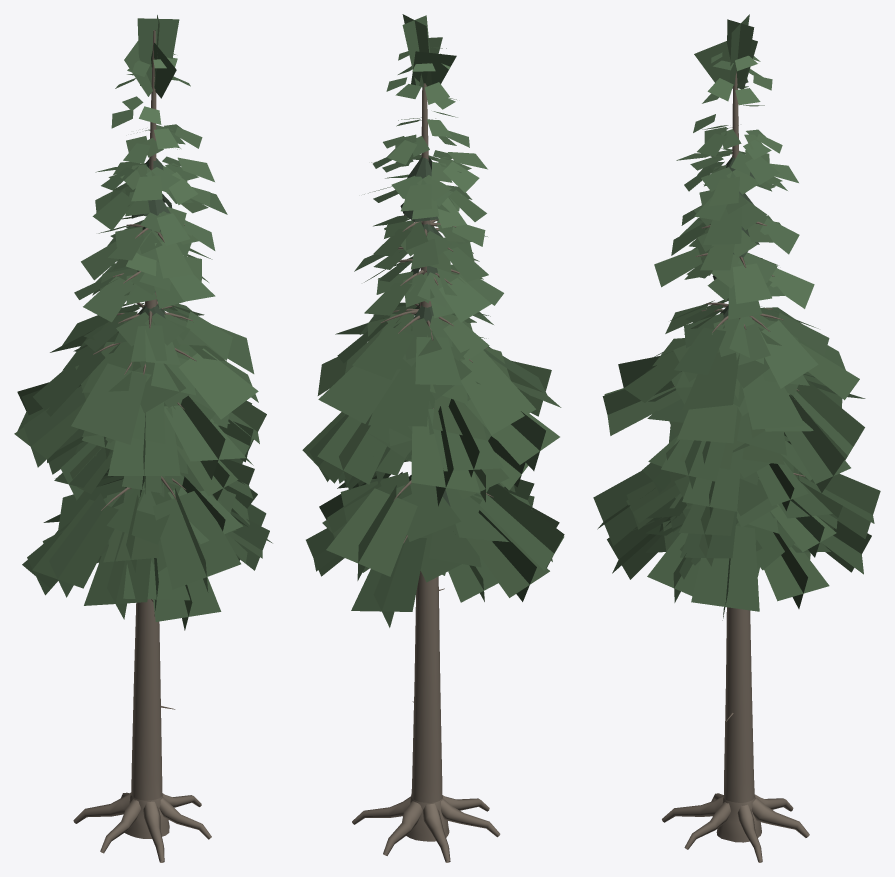
The model's file is fir_tall.glb.
The picture shows the model from 3 angles, left to right: view 1: azimuth 30°, elevation 25°; view 2: azimuth 150°, elevation 25°; view 3: azimuth 270°, elevation 25°; orthographic projection.
Parts seen in each view (by area): view 1: fir_tall; view 2: fir_tall; view 3: fir_tall.
Boxes of the visible parts, left/top/right/bottom form: fir_tall: left=14, top=15, right=272, bottom=862; fir_tall: left=302, top=14, right=564, bottom=862; fir_tall: left=593, top=14, right=880, bottom=862.
Size of the model in its own units: 7.59 by 25.03 by 7.97.
